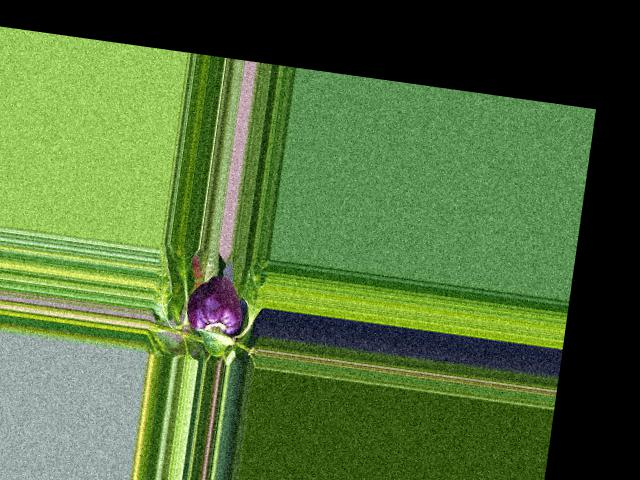bell_pepper: (181, 269, 247, 343)
